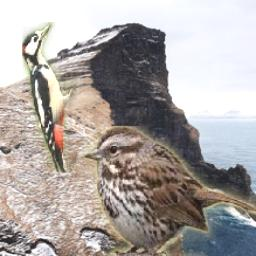Sparrow: (84, 127, 256, 256)
Woodpecker: (22, 22, 81, 172)
